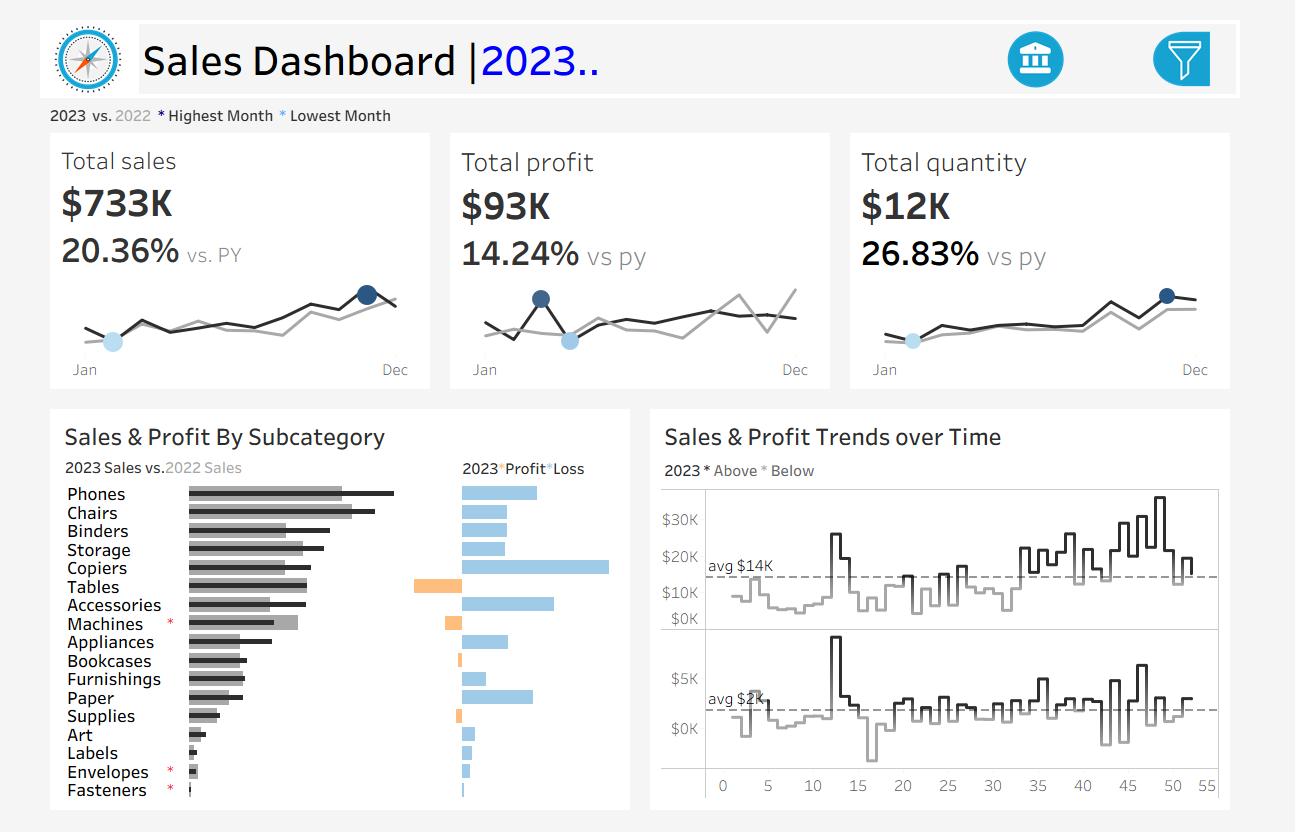

Layout of this report page (visuals, bound fields, positions):
{"tool":"tableau","page":{"name":"Sales Dashboard","canvas":[1200,800],"ordinal":0},"visuals":[{"type":"image","param":"Image/Icon - Logo.png","box":[0,0,95,78]},{"type":"text","box":[95,0,1105,78]},{"type":"dashboard-object","box":[923,6,145,66]},{"type":"blank","box":[983,10,204,90]},{"type":"worksheet","title":"Legend Kpi","mark":"Automatic","box":[0,78,1200,35]},{"type":"text","box":[983,100,204,40]},{"type":"worksheet","title":"kpi sales","mark":"Automatic","rows":["Calculation_0955495461392385"],"cols":["Order Date"],"box":[0,113,400,266]},{"type":"worksheet","title":"kpi profit","mark":"Automatic","rows":["Calculation_0954122250362885"],"cols":["Order Date"],"box":[400,113,400,266]},{"type":"worksheet","title":"kpi quantity","mark":"Automatic","rows":["Calculation_0997003569754115"],"cols":["Order Date"],"box":[800,113,400,266]},{"type":"parameter","param":"[Parameters].[Parameter 0858737503236102]","box":[983,140,204,56]},{"type":"blank","box":[983,196,204,55]},{"type":"text","box":[983,251,204,33]},{"type":"filter","title":"kpi sales","param":"[federated.1drahhj10qmb2t170p7hp0bv4k89].[none:Category:nk]","box":[983,284,204,61]},{"type":"filter","title":"kpi sales","param":"[federated.1drahhj10qmb2t170p7hp0bv4k89].[none:Sub-Category:nk]","box":[983,345,204,61]},{"type":"text","box":[17,396,566,40]},{"type":"text","box":[617,396,566,40]},{"type":"text","box":[983,406,204,33]},{"type":"worksheet","title":"Legend Subcategory","mark":"Automatic","box":[17,436,398,24]},{"type":"text","box":[415,436,168,24]},{"type":"text","box":[617,436,566,29]},{"type":"filter","title":"kpi sales","param":"[federated.1drahhj10qmb2t170p7hp0bv4k89].[none:Region:nk]","box":[983,439,204,61]},{"type":"worksheet","title":"subcategory comparison","mark":"Bar","rows":["Sub-Category","Calculation_0524763892109313"],"cols":["Calculation_0858737500143619","Calculation_0858737494560768","Calculation_0954122241208320"],"box":[17,460,566,323]},{"type":"worksheet","title":"weekley trends","mark":"Automatic","rows":["Calculation_0858737494560768","Calculation_0954122241208320"],"cols":["Order Date"],"box":[617,465,566,318]},{"type":"filter","title":"kpi sales","param":"[federated.1drahhj10qmb2t170p7hp0bv4k89].[none:State:nk]","box":[983,500,204,61]},{"type":"filter","title":"kpi sales","param":"[federated.1drahhj10qmb2t170p7hp0bv4k89].[none:City:nk]","box":[983,561,204,61]}]}

Visuals, with their boxes on the page's 1200x800 design canvas (x1, y1, x2, y2). These are canvas units, not pixel positions in the 1295x832 screenshot, which may show the page scaled, cropped or inside an application window:
image: box(0, 0, 95, 78)
text: box(95, 0, 1200, 78)
dashboard-object: box(923, 6, 1068, 72)
blank: box(983, 10, 1187, 100)
"Legend Kpi" worksheet: box(0, 78, 1200, 113)
text: box(983, 100, 1187, 140)
"kpi sales" worksheet: box(0, 113, 400, 379)
"kpi profit" worksheet: box(400, 113, 800, 379)
"kpi quantity" worksheet: box(800, 113, 1200, 379)
parameter: box(983, 140, 1187, 196)
blank: box(983, 196, 1187, 251)
text: box(983, 251, 1187, 284)
"kpi sales" filter: box(983, 284, 1187, 345)
"kpi sales" filter: box(983, 345, 1187, 406)
text: box(17, 396, 583, 436)
text: box(617, 396, 1183, 436)
text: box(983, 406, 1187, 439)
"Legend Subcategory" worksheet: box(17, 436, 415, 460)
text: box(415, 436, 583, 460)
text: box(617, 436, 1183, 465)
"kpi sales" filter: box(983, 439, 1187, 500)
"subcategory comparison" worksheet (Bar marks): box(17, 460, 583, 783)
"weekley trends" worksheet: box(617, 465, 1183, 783)
"kpi sales" filter: box(983, 500, 1187, 561)
"kpi sales" filter: box(983, 561, 1187, 622)
